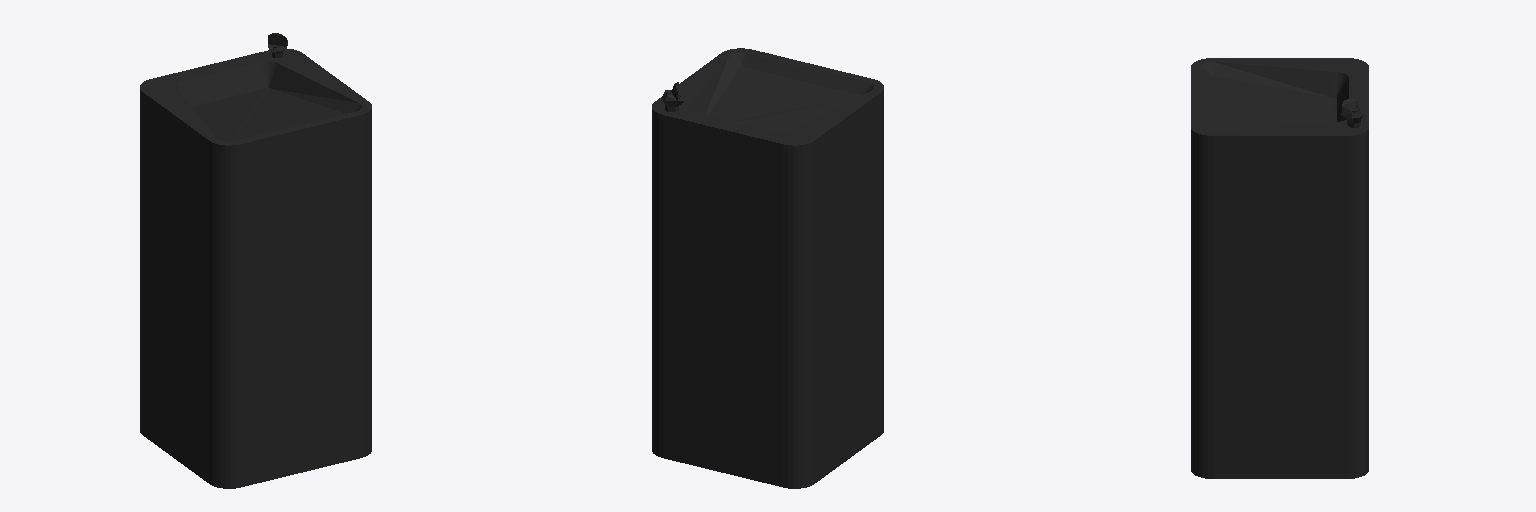
The model's file is water_fountain.obj.
3 renders of one model, left to right at view 1: azimuth 30°, elevation 25°; view 2: azimuth 150°, elevation 25°; view 3: azimuth 270°, elevation 25°, orthographic.
Visible parts, largest first — view 1: water_fountain.obj; view 2: water_fountain.obj; view 3: water_fountain.obj.
Boxes of the visible parts, box(x1,y1,x2,y2) form: water_fountain.obj: box(140, 33, 371, 488); water_fountain.obj: box(652, 48, 883, 488); water_fountain.obj: box(1191, 58, 1368, 478).
Size of the model in its own units: 3.02 by 6.65 by 2.92.